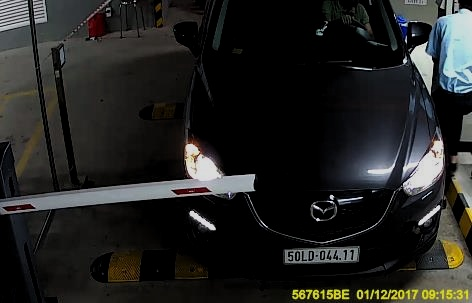plate: (283, 243, 356, 265)
